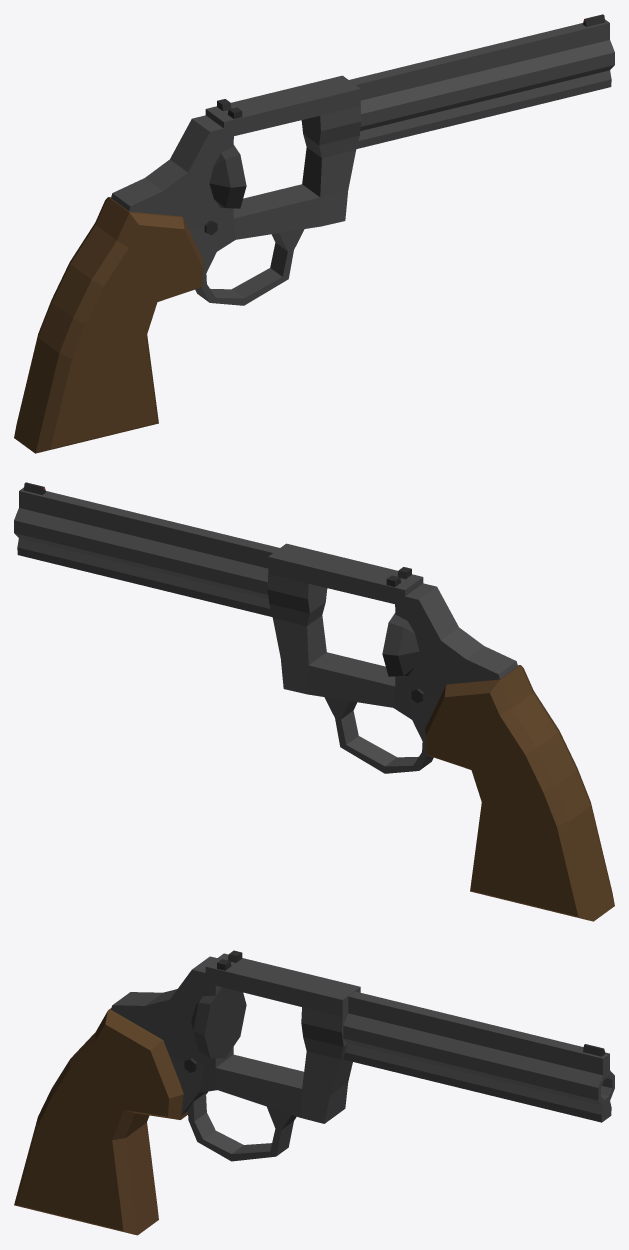
The model's file is Pistol5_04.fbx.
3 views of the same model, one above another, from view 1: azimuth 30°, elevation 25°; view 2: azimuth 150°, elevation 25°; view 3: azimuth 330°, elevation 25° (orthographic).
Visible parts, largest first — view 1: Pistol5_04; view 2: Pistol5_04; view 3: Pistol5_04.
Boxes of the visible parts, <box> form: Pistol5_04: <box>14,14,614,453</box>; Pistol5_04: <box>14,482,614,921</box>; Pistol5_04: <box>14,950,614,1235</box>.
Bounding box in the file's own units: 0.3781 × 0.18 × 0.0474.
